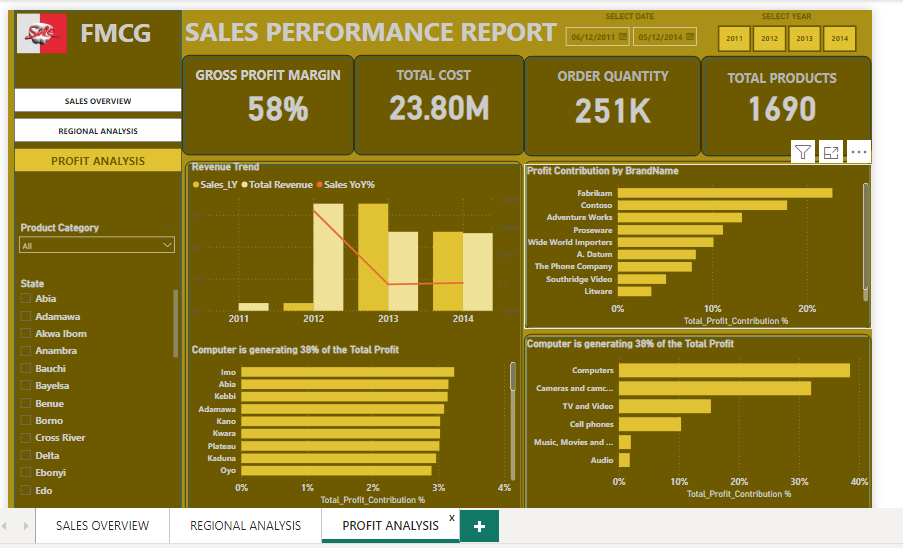

What the dashboard file says about the page in this screenshot:
{"tool":"powerbi","page":{"name":"PROFIT ANALYSIS","canvas":[1440,850],"ordinal":2},"visuals":[{"type":"shape","box":[9.4,0,279.7,840.9],"z":0},{"type":"image","box":[9.4,0,92.6,77.5],"z":1000},{"type":"textbox","box":[290.2,0,645.9,67.2],"z":2000},{"type":"textbox","box":[115.3,1.9,145.5,75.6],"z":3000},{"type":"shape","box":[290.2,75.4,286.9,167.2],"z":4000},{"type":"card","fields":{"Values":["Measure.Profit Margin %"]},"box":[330.6,112.5,238.1,87.6],"z":5000},{"type":"textbox","box":[301.6,88.5,265.6,67.2],"z":6000},{"type":"shape","box":[577,75.4,283.6,167.2],"z":7000},{"type":"card","fields":{"Values":["Measure.Total Cost"]},"box":[600,111.5,237.7,86.9],"z":8000},{"type":"textbox","box":[636.1,88.5,165.6,67.2],"z":9000},{"type":"shape","box":[860.7,77,295.1,167.2],"z":10000},{"type":"card","fields":{"Values":["Sum(Sales_Data.Order Qty)"]},"box":[888.5,116.4,237.7,86.9],"z":11000},{"type":"textbox","box":[904.9,90.2,204.9,67.2],"z":12000},{"type":"textbox","box":[918,209.8,55.7,37.7],"z":13000},{"type":"shape","box":[1155.7,77,283.6,167.2],"z":14000},{"type":"card","fields":{"Values":["Count(Sales_Product.ProductName)"]},"box":[1170.5,113.1,237.7,86.9],"z":15000},{"type":"textbox","box":[1188.5,93.4,201.6,67.2],"z":16000},{"type":"textbox","box":[1175.4,204.9,55.7,37.7],"z":17000},{"type":"shape","box":[295.1,252.5,562.3,588.5],"z":18000},{"type":"shape","box":[860.7,252.5,578.7,280.3],"z":19000},{"type":"shape","box":[860.7,539.3,578.7,301.6],"z":20000},{"type":"slicer","title":"SELECT DATE","fields":{"Values":["DATE.Date"]},"box":[916.4,3.3,239.3,73.8],"z":21000},{"type":"slicer","title":"SELECT YEAR","fields":{"Values":["DATE.year"]},"box":[1157.4,3.3,282,73.8],"z":22000},{"type":"slicer","fields":{"Values":["Sales_Product_Sub_Cat.Product Category"]},"box":[8.2,345.9,280.3,93.4],"z":23000},{"type":"slicer","fields":{"Values":["Sales_State.State"]},"box":[8.2,439.3,280.3,380.3],"z":24000},{"type":"pageNavigator","box":[9.8,129.5,280.3,141],"z":25000},{"type":"lineClusteredColumnComboChart","title":"Revenue Trend","fields":{"Category":["DATE.Date.Variation.Date Hierarchy.Year","DATE.Date.Variation.Date Hierarchy.Month"],"Y":["Measure.Sales_LY","Measure.Total Revenue"],"Y2":["Measure.Sales YoY%"]},"box":[301.6,250.8,557.4,285.2],"z":26000},{"type":"clusteredBarChart","title":"Profit Contribution by BrandName","fields":{"Category":["Sales_Product.BrandName"],"Y":["Measure.Total_Profit_Contribution %"]},"box":[860.7,257.1,578.6,275],"z":27000},{"type":"clusteredBarChart","title":"Computer is generating 38% of the Total Profit","fields":{"Category":["Sales_Product_Sub_Cat.Product Category"],"Y":["Measure.Total_Profit_Contribution %"]},"box":[860.7,544.3,578.7,275.4],"z":28000},{"type":"clusteredBarChart","title":"Computer is generating 38% of the Total Profit","fields":{"Y":["Measure.Total_Profit_Contribution %"],"Category":["Sales_State.State"]},"box":[301.6,555.7,549.2,275.4],"z":29000}]}

Visuals, with their boxes on the page's 1440x850 design canvas (x1, y1, x2, y2). These are canvas units, not pixel positions in the 903x548 screenshot, which may show the page scaled, cropped or inside an application window:
shape: (x1=9, y1=0, x2=289, y2=841)
image: (x1=9, y1=0, x2=102, y2=78)
textbox: (x1=290, y1=0, x2=936, y2=67)
textbox: (x1=115, y1=2, x2=261, y2=78)
shape: (x1=290, y1=75, x2=577, y2=243)
card - Measure.Profit Margin %: (x1=331, y1=112, x2=569, y2=200)
textbox: (x1=302, y1=88, x2=567, y2=156)
shape: (x1=577, y1=75, x2=861, y2=243)
card - Measure.Total Cost: (x1=600, y1=112, x2=838, y2=198)
textbox: (x1=636, y1=88, x2=802, y2=156)
shape: (x1=861, y1=77, x2=1156, y2=244)
card - Sum(Sales_Data.Order Qty): (x1=888, y1=116, x2=1126, y2=203)
textbox: (x1=905, y1=90, x2=1110, y2=157)
textbox: (x1=918, y1=210, x2=974, y2=248)
shape: (x1=1156, y1=77, x2=1439, y2=244)
card - Count(Sales_Product.ProductName): (x1=1170, y1=113, x2=1408, y2=200)
textbox: (x1=1188, y1=93, x2=1390, y2=161)
textbox: (x1=1175, y1=205, x2=1231, y2=243)
shape: (x1=295, y1=252, x2=857, y2=841)
shape: (x1=861, y1=252, x2=1439, y2=533)
shape: (x1=861, y1=539, x2=1439, y2=841)
"SELECT DATE" slicer: (x1=916, y1=3, x2=1156, y2=77)
"SELECT YEAR" slicer: (x1=1157, y1=3, x2=1439, y2=77)
slicer - Sales_Product_Sub_Cat.Product Category: (x1=8, y1=346, x2=288, y2=439)
slicer - Sales_State.State: (x1=8, y1=439, x2=288, y2=820)
pageNavigator: (x1=10, y1=130, x2=290, y2=270)
"Revenue Trend" lineClusteredColumnComboChart: (x1=302, y1=251, x2=859, y2=536)
"Profit Contribution by BrandName" clusteredBarChart: (x1=861, y1=257, x2=1439, y2=532)
"Computer is generating 38% of the Total Profit" clusteredBarChart: (x1=861, y1=544, x2=1439, y2=820)
"Computer is generating 38% of the Total Profit" clusteredBarChart: (x1=302, y1=556, x2=851, y2=831)
